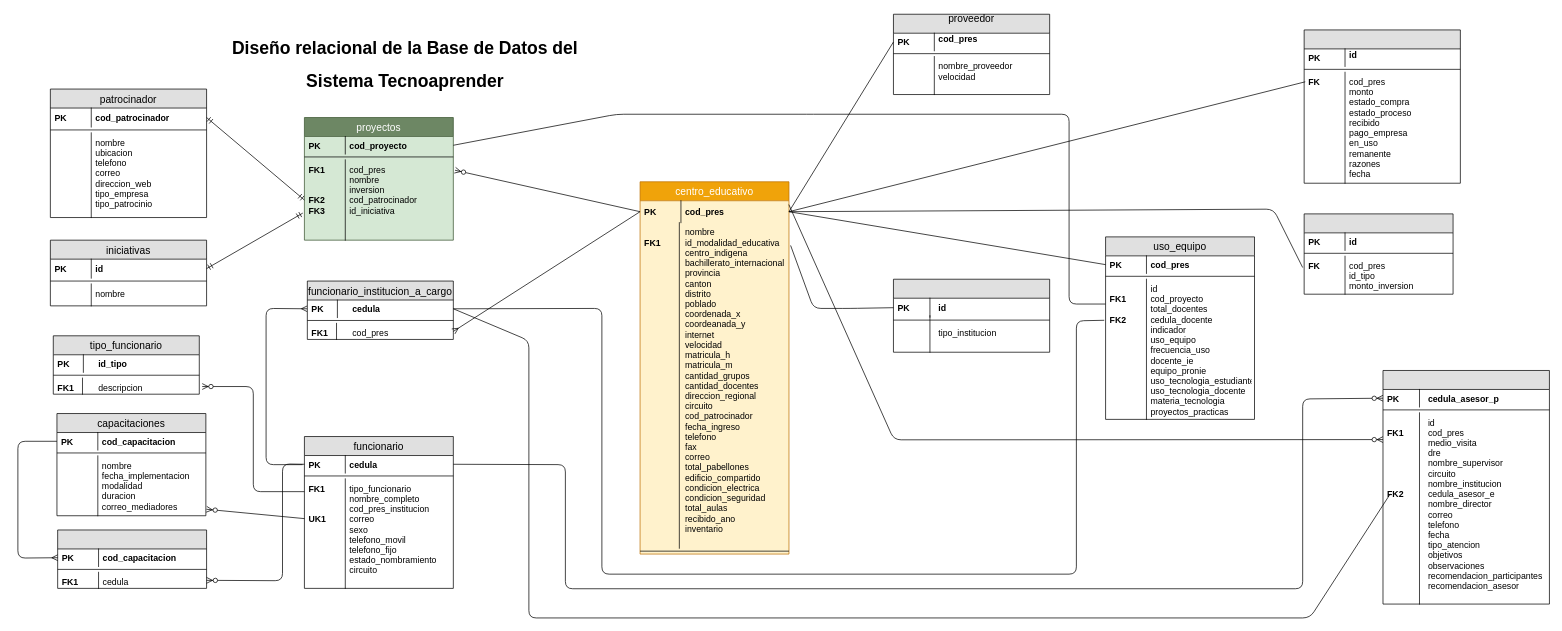
Image size: 1562x631. Some labels were removed from this diagram. Each missing label, with the box of its shape:
asesoría: (1382, 370, 1549, 604)
capacitaciones_participantes: (57, 529, 207, 588)
equipamiento_otros: (1303, 213, 1453, 294)
equipamiento_transferencia: (1303, 29, 1460, 183)
modalidad_educativa: (893, 278, 1050, 352)
